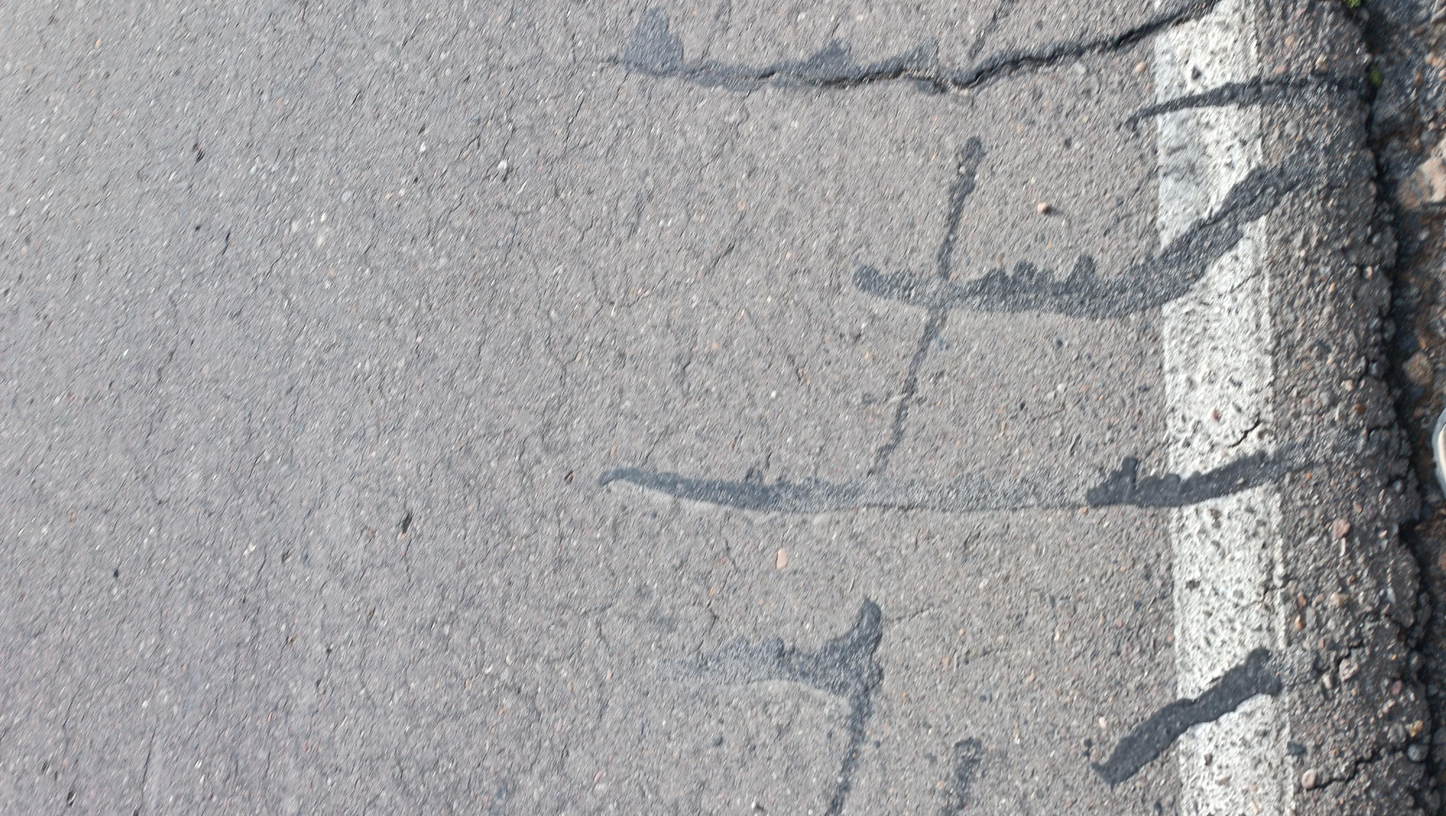GRIETA: (796, 0, 1218, 94)
PIEL DE COCODRILO: (51, 0, 816, 795)
